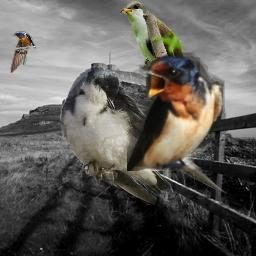Cuckoo: (117, 1, 203, 105)
Swallow: (57, 65, 226, 207), (127, 52, 225, 171), (10, 31, 36, 73)
